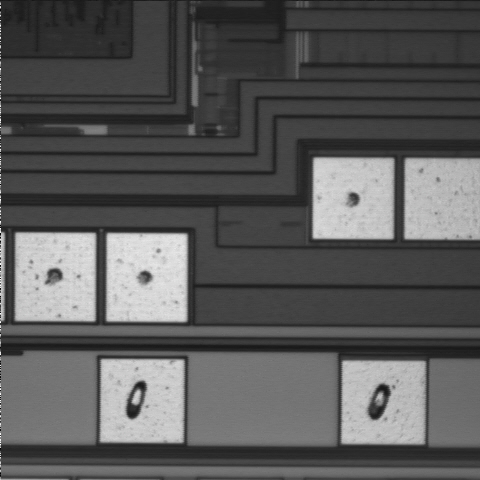pad: (107, 233, 187, 322), (16, 233, 95, 321), (101, 360, 184, 442), (342, 361, 424, 443), (313, 158, 393, 239)
